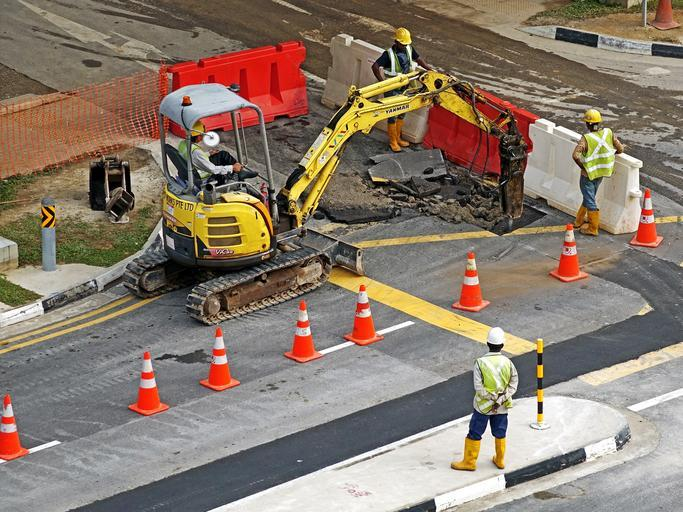Hard Hat: (486, 326, 506, 354), (581, 110, 603, 131), (187, 122, 206, 144), (394, 28, 412, 50)
Person: (449, 326, 519, 470), (373, 26, 432, 153), (572, 109, 623, 235), (178, 125, 260, 189)
Vest: (476, 344, 515, 414), (585, 123, 615, 181), (178, 133, 211, 180), (387, 40, 416, 79)
